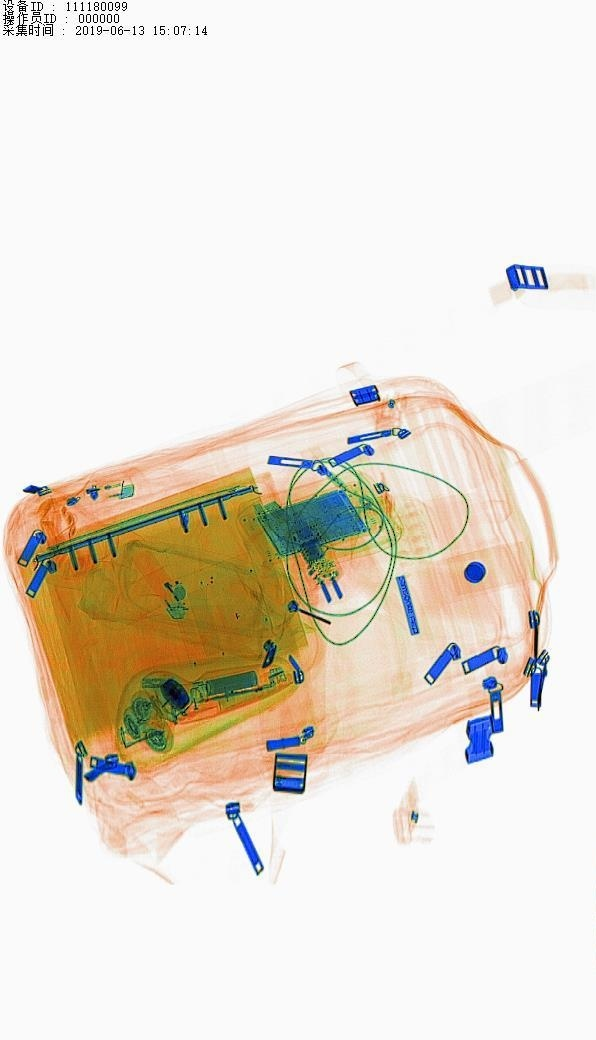NonmetallicFire: (128, 529, 207, 645), (41, 466, 154, 521)
